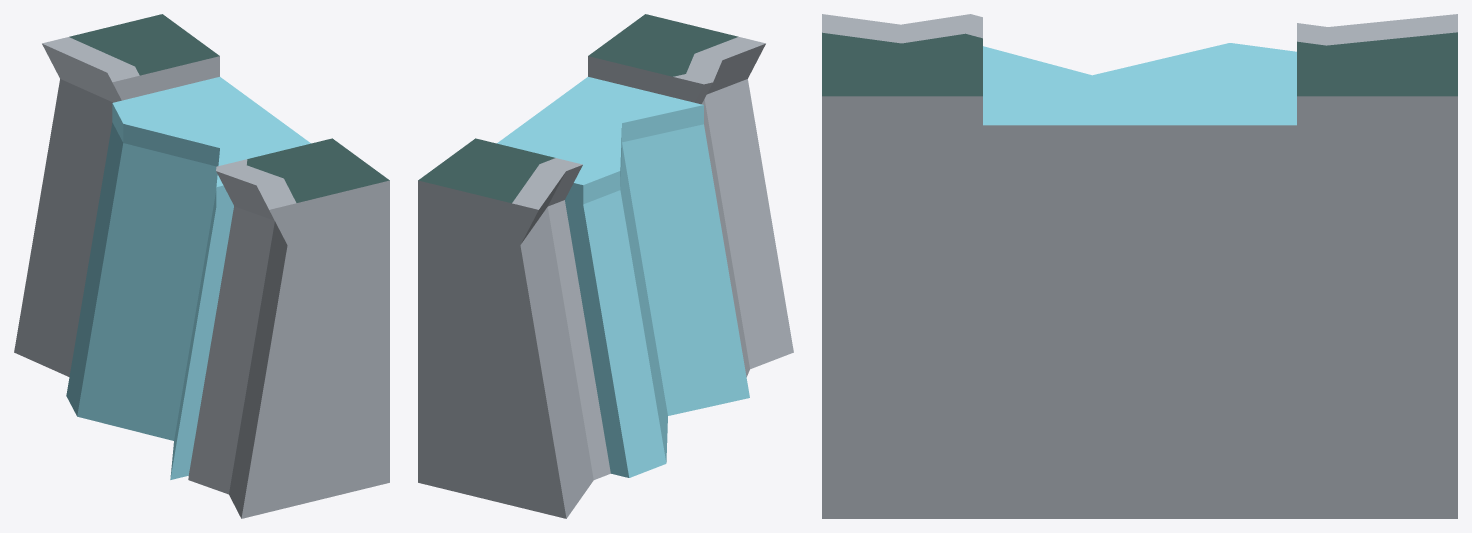
File: Grey_Waterfall_Bottom_Top_01.obj
3 views of the same model, side by side, from view 1: azimuth 30°, elevation 25°; view 2: azimuth 150°, elevation 25°; view 3: azimuth 270°, elevation 25° (orthographic). The views are drawn at different scales.
Parts seen in each view (by area): view 1: Mesh1_Grey_Waterfall_Model.001, Mesh1_Grey_Waterfall_Top_Model; view 2: Mesh1_Grey_Waterfall_Model.001, Mesh1_Grey_Waterfall_Top_Model; view 3: Mesh1_Grey_Waterfall_Model.001, Mesh1_Grey_Waterfall_Top_Model.
Boxes of the visible parts, <box> form: Mesh1_Grey_Waterfall_Model.001: <box>14,79,389,518</box>; Mesh1_Grey_Waterfall_Top_Model: <box>42,14,389,245</box>; Mesh1_Grey_Waterfall_Model.001: <box>418,79,793,518</box>; Mesh1_Grey_Waterfall_Top_Model: <box>418,14,765,245</box>; Mesh1_Grey_Waterfall_Model.001: <box>822,152,1457,518</box>; Mesh1_Grey_Waterfall_Top_Model: <box>822,14,1457,151</box>.
Bounding box in the file's own units: 1.27 × 2.2 × 3.
